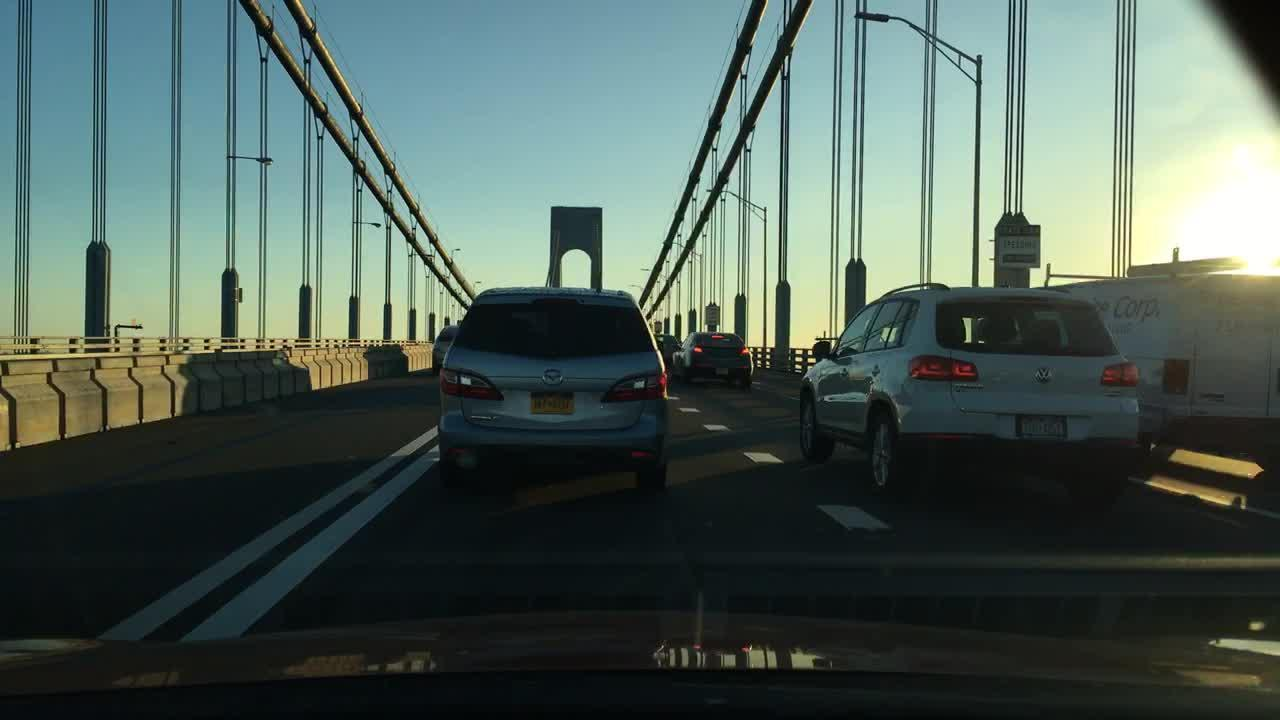Mazda: (541, 363, 570, 390)
Volkswagen: (1032, 361, 1058, 388)
